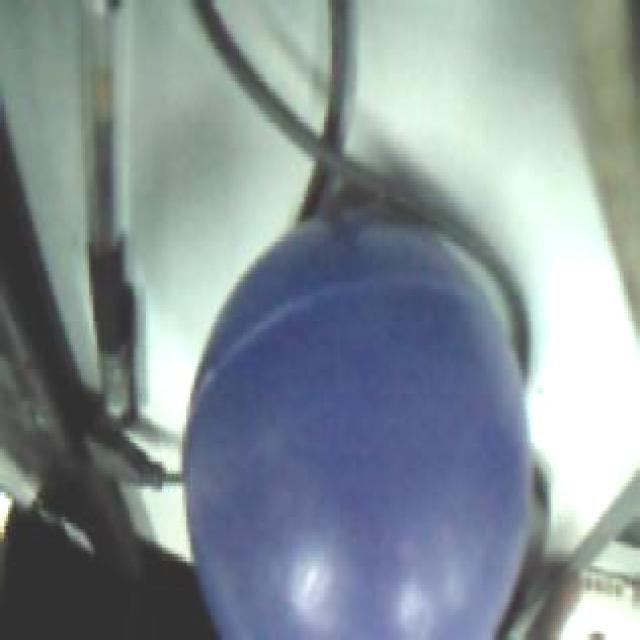BallPurple: (184, 212, 531, 640)
